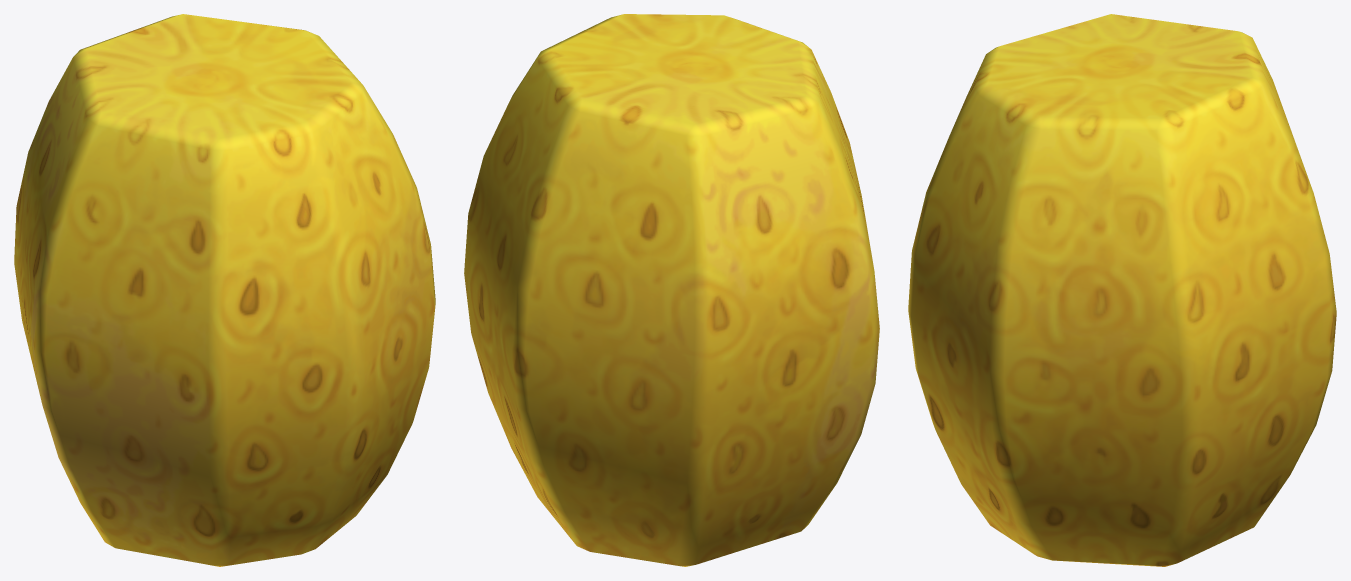
Rendered from SM_PineapplePeeled.fbx.
The picture shows the model from 3 angles, left to right: view 1: azimuth 30°, elevation 25°; view 2: azimuth 150°, elevation 25°; view 3: azimuth 270°, elevation 25°; orthographic projection.
Visible parts, largest first — view 1: SM_PineapplePeeled; view 2: SM_PineapplePeeled; view 3: SM_PineapplePeeled.
Boxes of the visible parts, x1,y1,x2,y2 form: SM_PineapplePeeled: (14,14,435,566); SM_PineapplePeeled: (464,14,879,566); SM_PineapplePeeled: (908,14,1336,566).
Bounding box in the file's own units: 17.05 × 19.97 × 17.08.
